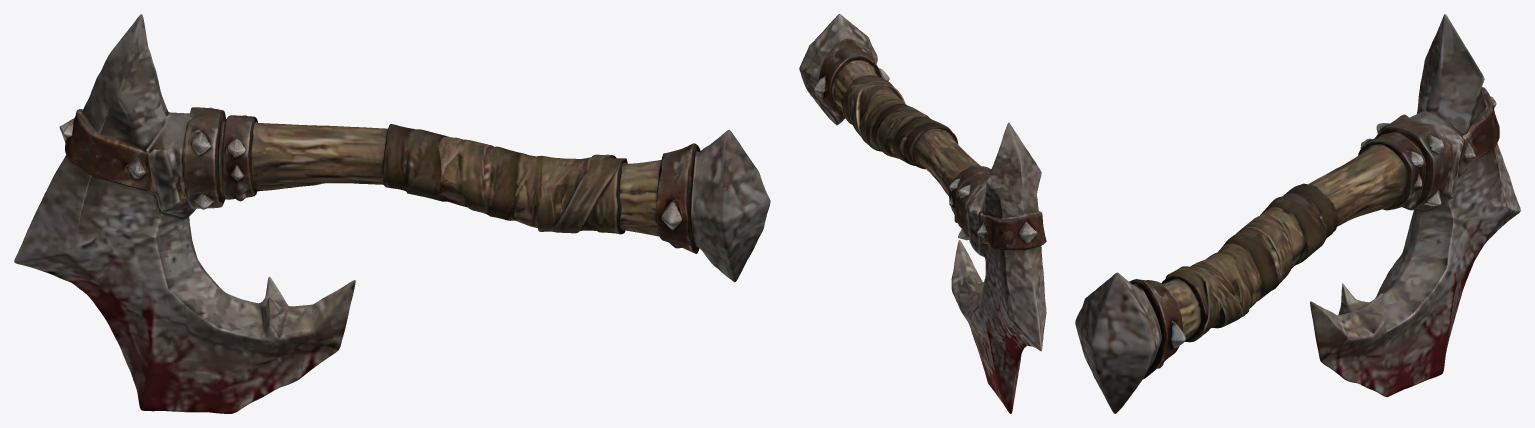
Rendered from medieval+battle+axe+3d+model.glb.
3 views of the same model, side by side, from view 1: azimuth 30°, elevation 25°; view 2: azimuth 150°, elevation 25°; view 3: azimuth 270°, elevation 25° (orthographic). The views are drawn at different scales.
Parts seen in each view (by area): view 1: tripo_node_40d53f00-1583-4cc8-96a0-dff21ea3abd0; view 2: tripo_node_40d53f00-1583-4cc8-96a0-dff21ea3abd0; view 3: tripo_node_40d53f00-1583-4cc8-96a0-dff21ea3abd0.
Part boxes in pixels (x1,y1,x2,y2): tripo_node_40d53f00-1583-4cc8-96a0-dff21ea3abd0: (14, 14, 770, 413); tripo_node_40d53f00-1583-4cc8-96a0-dff21ea3abd0: (799, 14, 1046, 413); tripo_node_40d53f00-1583-4cc8-96a0-dff21ea3abd0: (1075, 14, 1520, 413).
Bounding box in the file's own units: 0.9969 × 0.711 × 0.7962.
Materials: 1 (1 with a texture image).
